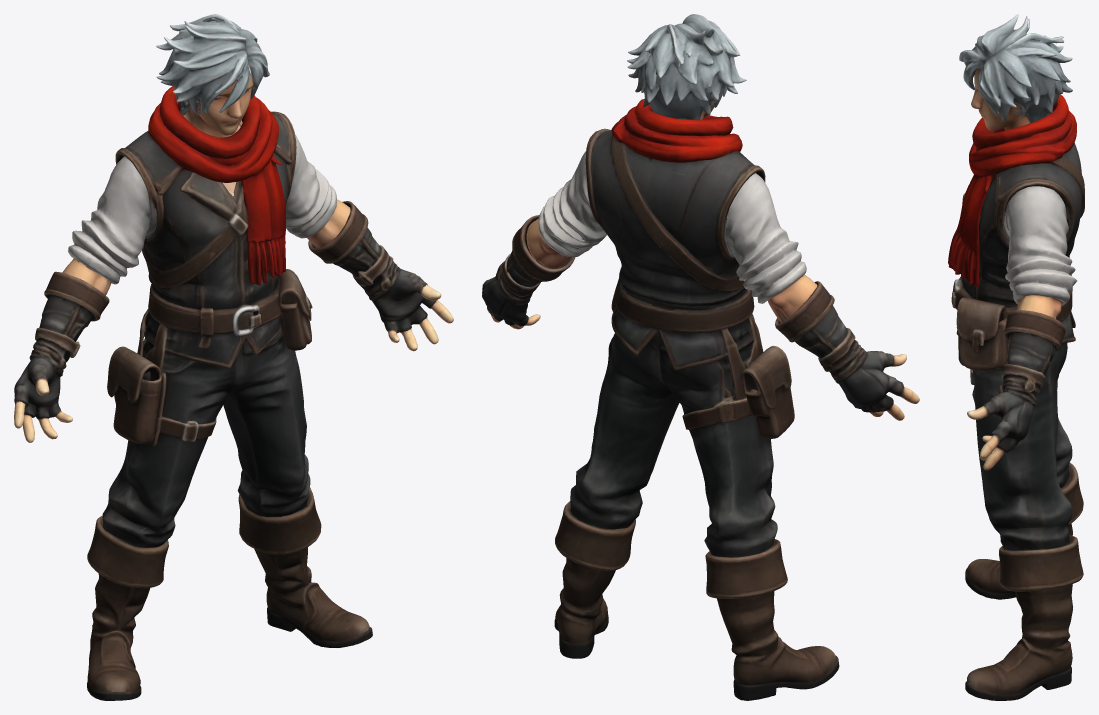
File: model_trellis.glb
3 views of the same model, side by side, from view 1: azimuth 30°, elevation 25°; view 2: azimuth 150°, elevation 25°; view 3: azimuth 270°, elevation 25° (orthographic). The views are drawn at different scales.
Parts seen in each view (by area): view 1: world; view 2: world; view 3: world.
Part boxes in pixels (x1,y1,x2,y2): world: [14, 14, 453, 700]; world: [482, 14, 919, 700]; world: [948, 14, 1084, 700].
Size of the model in its own units: 0.7133 by 0.9974 by 0.202.
1 material, 1 textured.
